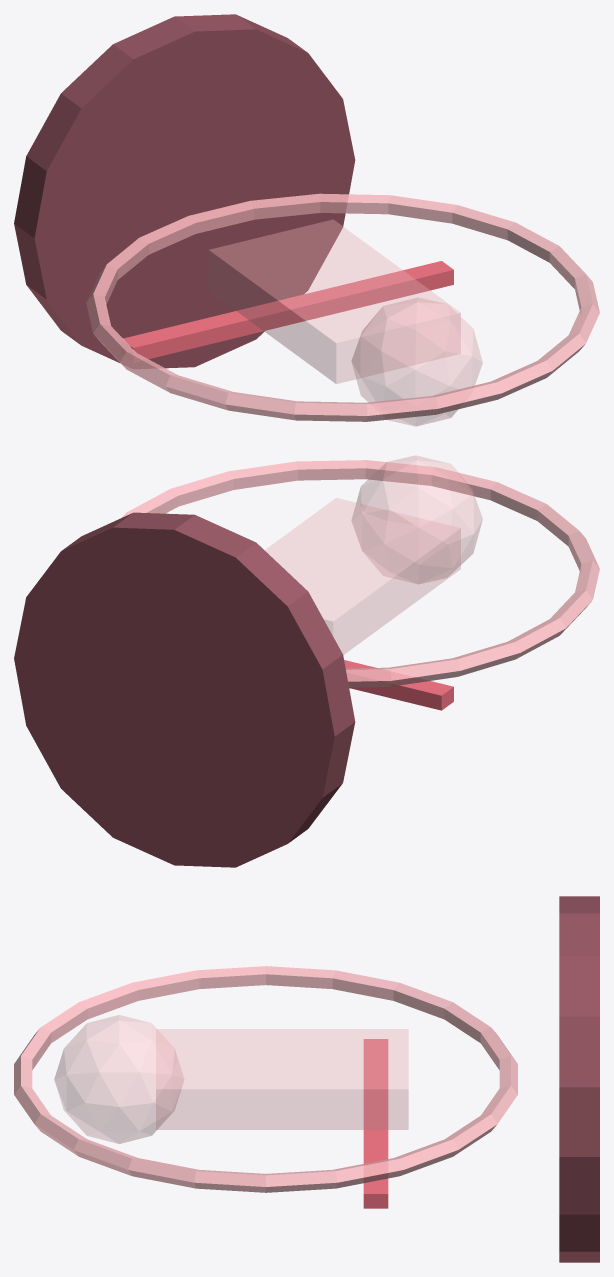
The model's file is 07_support_npc_aura.glb.
3 views of the same model, one above another, from view 1: azimuth 30°, elevation 25°; view 2: azimuth 150°, elevation 25°; view 3: azimuth 270°, elevation 25° (orthographic).
Visible parts, largest first — view 1: npc_support_base, support_holo_body, ally_command_ring, support_holo_head, assist_beam_marker; view 2: npc_support_base, support_holo_body, ally_command_ring, support_holo_head, assist_beam_marker; view 3: support_holo_body, ally_command_ring, npc_support_base, support_holo_head, assist_beam_marker.
Part boxes in pixels (left/top/right/bottom): npc_support_base: left=14, top=14, right=355, bottom=368; support_holo_body: left=209, top=219, right=460, bottom=383; ally_command_ring: left=86, top=193, right=599, bottom=421; support_holo_head: left=351, top=297, right=482, bottom=426; assist_beam_marker: left=121, top=261, right=453, bottom=362; npc_support_base: left=14, top=512, right=355, bottom=867; support_holo_body: left=265, top=498, right=460, bottom=654; ally_command_ring: left=121, top=460, right=599, bottom=687; support_holo_head: left=352, top=455, right=482, bottom=583; assist_beam_marker: left=344, top=660, right=453, bottom=710; support_holo_body: left=156, top=1029, right=408, bottom=1129; ally_command_ring: left=14, top=966, right=517, bottom=1192; npc_support_base: left=559, top=896, right=599, bottom=1262; support_holo_head: left=54, top=1015, right=183, bottom=1143; assist_beam_marker: left=363, top=1039, right=388, bottom=1208.
Bounding box in the file's own units: 1.25 × 0.9 × 1.44.
